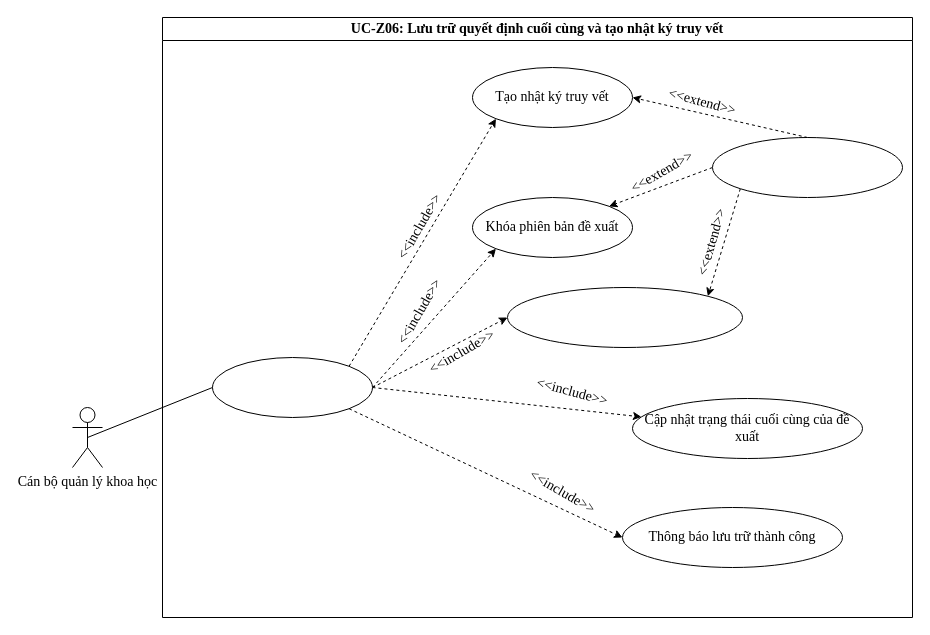
The diagram is 930 pixels wide and 635 high, and some of its shapes have lost their labels. Here are the shapes that lost their labels. From the top down, the centre of each, then its label:
At point 807,167: "Thông báo hồ sơ chưa hợp lệ / không thể lưu trữ".
At point 624,317: "Kiểm tra hồ sơ đề xuất đã có quyết định".
At point 292,387: "Xác nhận lưu trữ cuối cùng".
